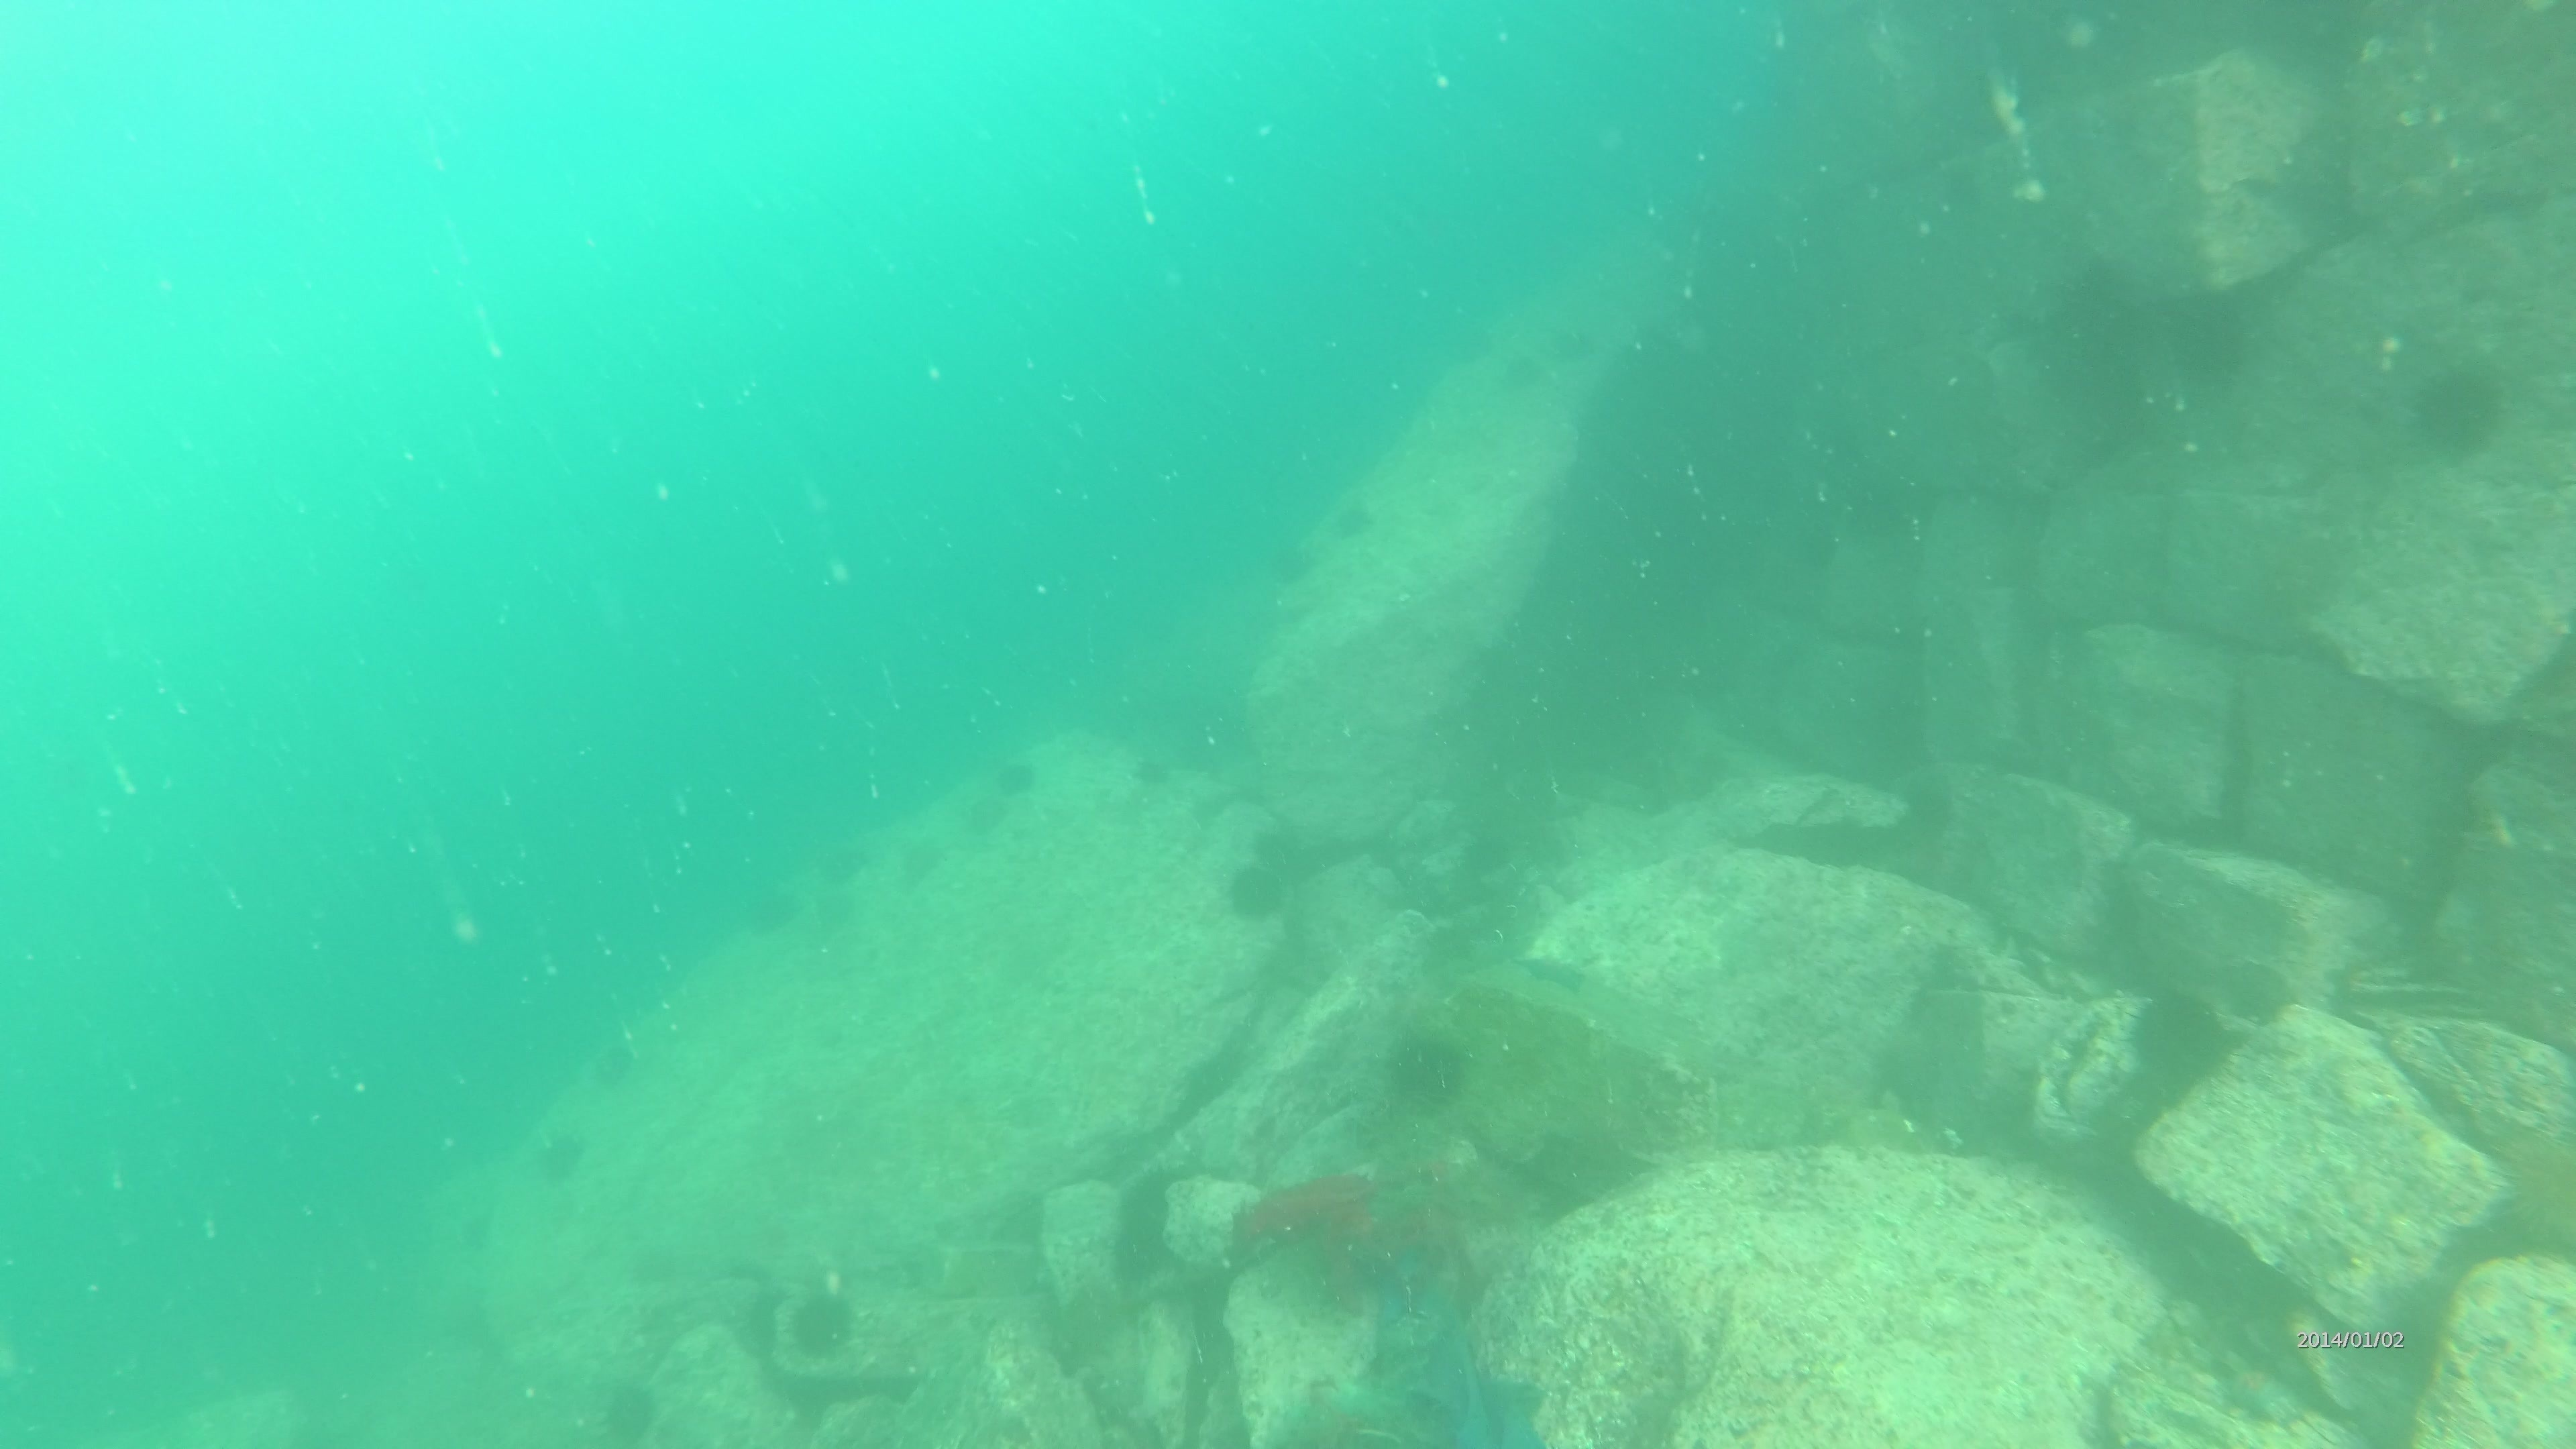echinus: (2123, 982, 2242, 1097), (2404, 354, 2512, 464), (1376, 1019, 1477, 1116), (777, 1276, 863, 1368), (1217, 849, 1297, 927), (591, 1371, 667, 1447), (529, 1120, 593, 1189), (1261, 830, 1325, 885), (897, 840, 964, 892), (985, 748, 1042, 805), (955, 794, 1017, 832), (743, 897, 793, 938), (1270, 543, 1320, 582), (809, 892, 855, 931), (593, 1042, 633, 1083), (1507, 356, 1550, 389), (1553, 331, 1598, 363), (1334, 506, 1373, 536), (830, 851, 870, 879), (1134, 757, 1171, 787)
